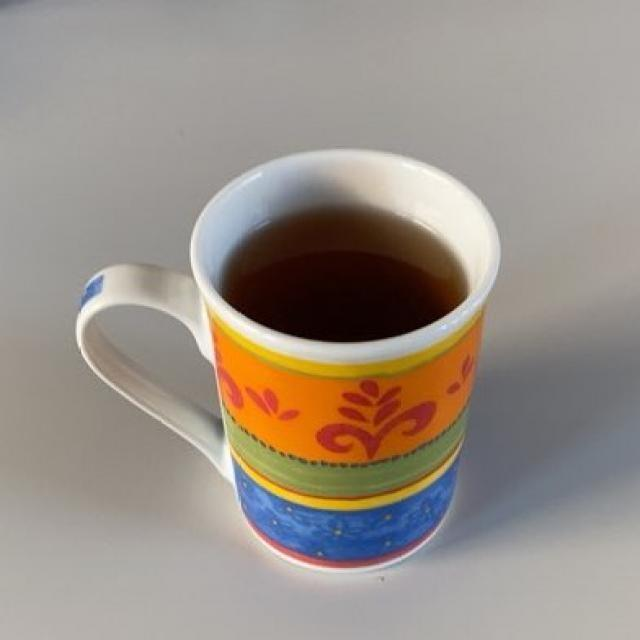tea: (226, 209, 463, 336)
